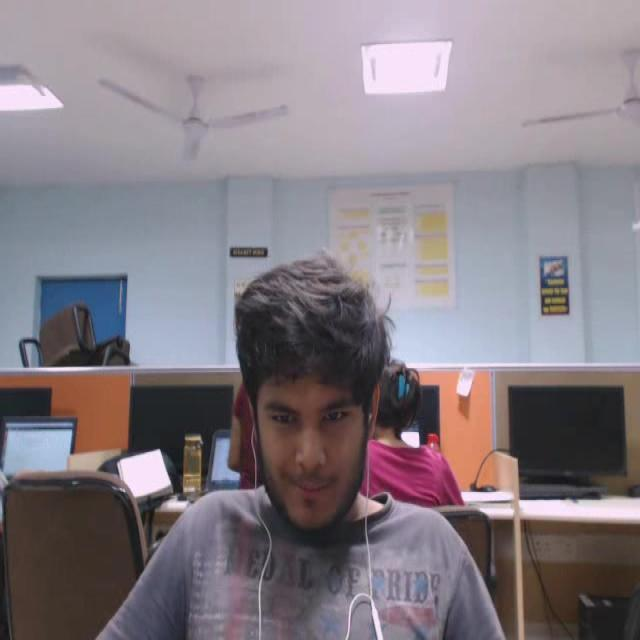Engaged: (202, 235, 426, 570)
